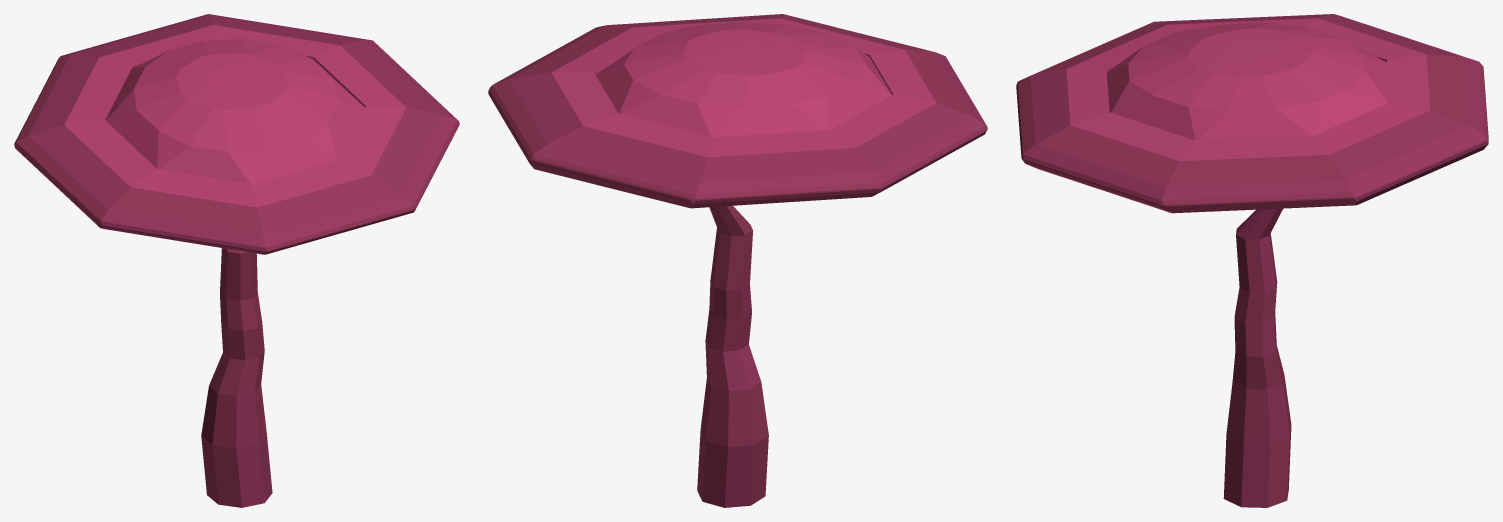
File: biobloom_fauna_mushroomtwo.fbx
3 views of the same model, side by side, from view 1: azimuth 30°, elevation 25°; view 2: azimuth 150°, elevation 25°; view 3: azimuth 270°, elevation 25° (orthographic). The views are drawn at different scales.
Parts seen in each view (by area): view 1: MushroomTreeTwo; view 2: MushroomTreeTwo; view 3: MushroomTreeTwo.
Boxes of the visible parts, box(x1,y1,x2,y2) form: MushroomTreeTwo: box(14, 14, 459, 507); MushroomTreeTwo: box(488, 14, 987, 507); MushroomTreeTwo: box(1016, 14, 1488, 507).
Size of the model in its own units: 1181 by 1271 by 1236.
